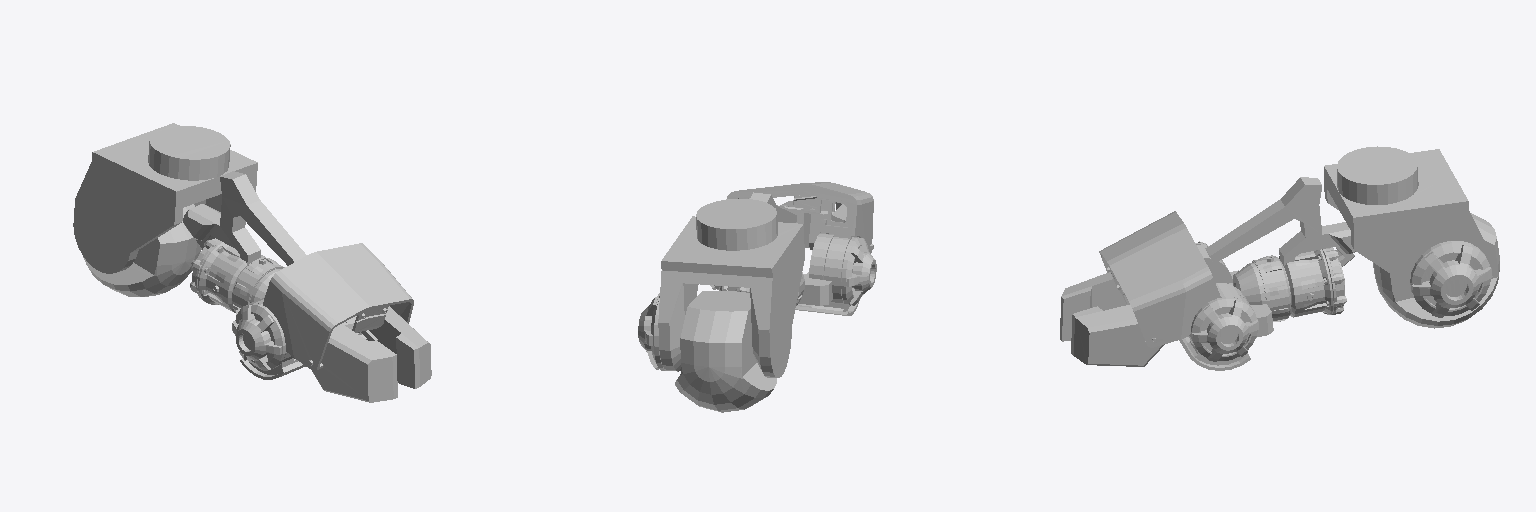
File: leftFoot.obj
3 views of the same model, side by side, from view 1: azimuth 30°, elevation 25°; view 2: azimuth 150°, elevation 25°; view 3: azimuth 270°, elevation 25° (orthographic).
Visible parts, largest first — view 1: leftFoot1; view 2: leftFoot1; view 3: leftFoot1.
Boxes of the visible parts, x1,y1,x2,y2 form: leftFoot1: [73, 123, 431, 402]; leftFoot1: [638, 182, 876, 412]; leftFoot1: [1060, 146, 1499, 370].
Size of the model in its own units: 0.7305 by 0.6337 by 1.51.